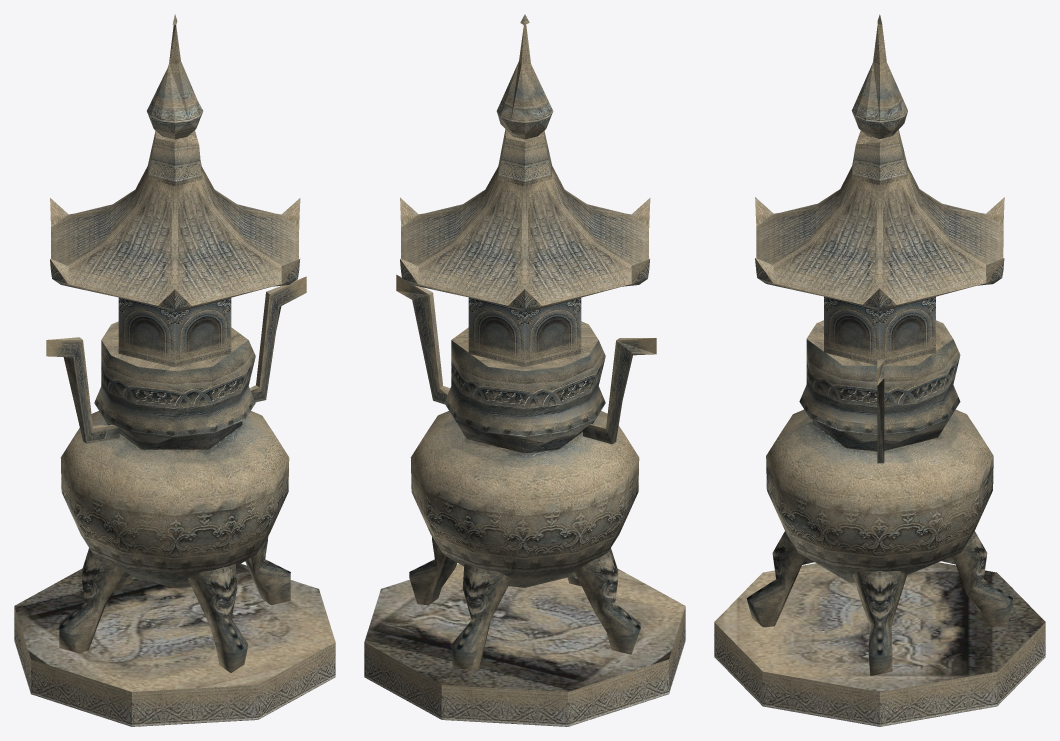
File: desert_brazier_lod_01.fbx
3 renders of one model, left to right at view 1: azimuth 30°, elevation 25°; view 2: azimuth 150°, elevation 25°; view 3: azimuth 270°, elevation 25°, orthographic.
Parts seen in each view (by area): view 1: ob_brazier_02, ob_brazier_01; view 2: ob_brazier_02, ob_brazier_01; view 3: ob_brazier_02, ob_brazier_01.
Part boxes in pixels (x1,y1,x2,y2): ob_brazier_02: (14,14,335,726); ob_brazier_01: (46,276,306,587); ob_brazier_02: (364,14,685,726); ob_brazier_01: (396,274,656,587); ob_brazier_02: (714,14,1045,726); ob_brazier_01: (766,320,993,582).
Size of the model in its own units: 2.06 by 4.42 by 2.06.
